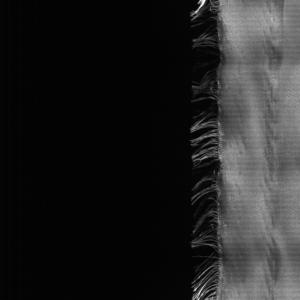Damage: (178, 1, 232, 300)
Wrinkle: (248, 1, 300, 300)
